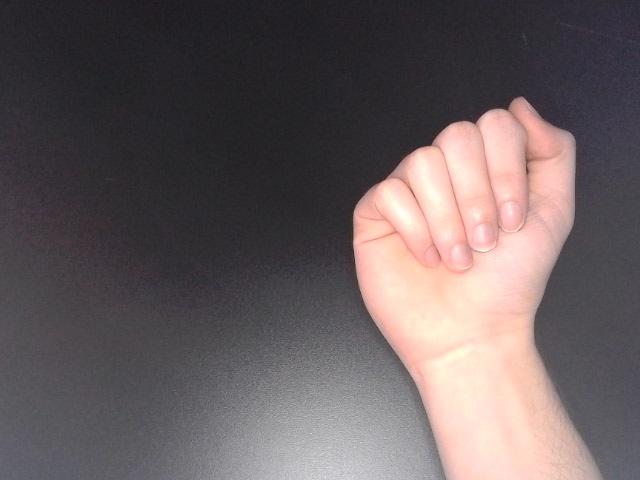a: (348, 92, 582, 371)
